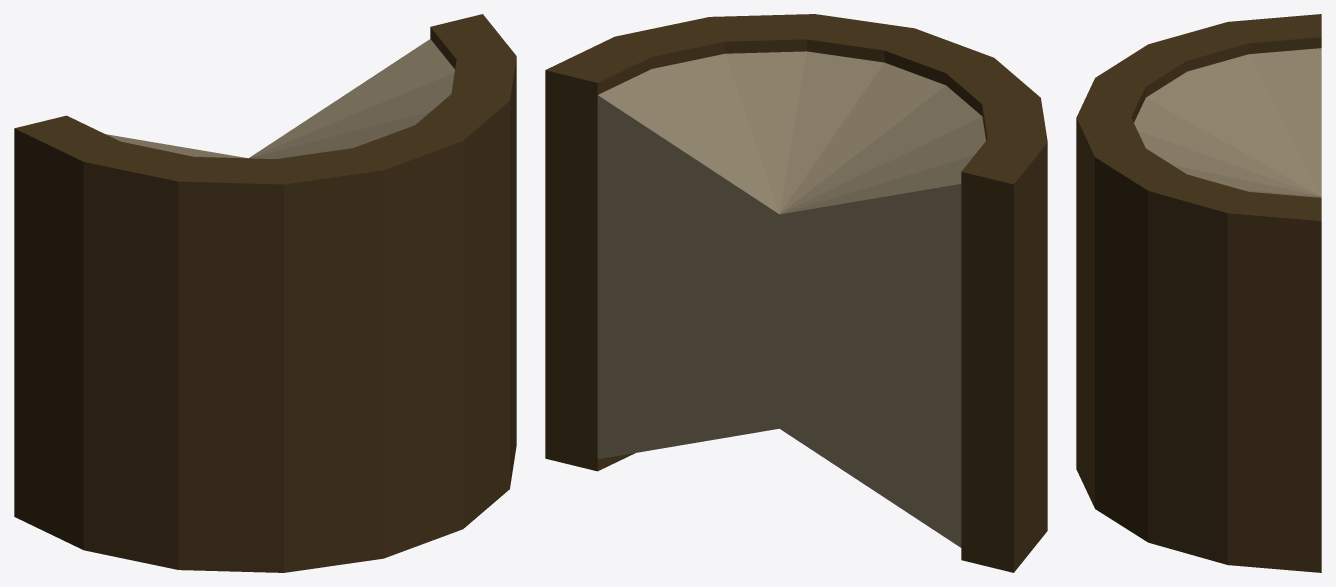
Rendered from leña-almedio_lowpoly.fbx.
The picture shows the model from 3 angles, left to right: view 1: azimuth 30°, elevation 25°; view 2: azimuth 150°, elevation 25°; view 3: azimuth 270°, elevation 25°; orthographic projection. The views are drawn at different scales.
Visible parts, largest first — view 1: Cylinder.037; view 2: Cylinder.037; view 3: Cylinder.037.
Part boxes in pixels (left/top/right/bottom): Cylinder.037: left=14, top=14, right=516, bottom=572; Cylinder.037: left=545, top=14, right=1047, bottom=572; Cylinder.037: left=1076, top=14, right=1321, bottom=572.
Size of the model in its own units: 200 by 158 by 100.
